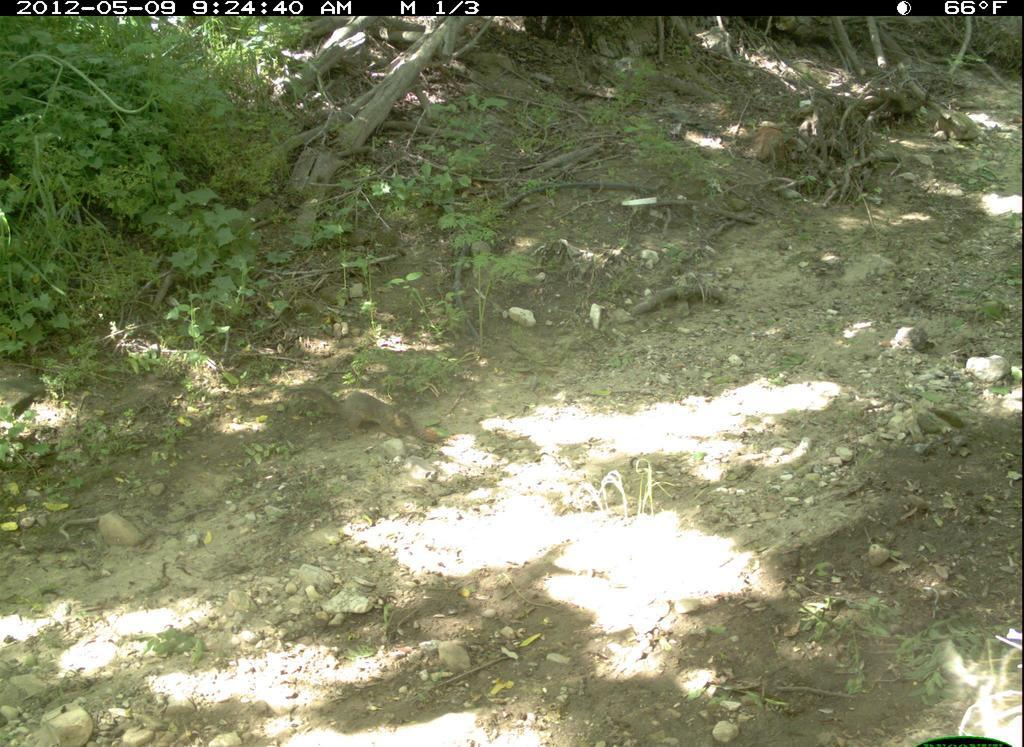squirrel: (277, 379, 423, 450)
